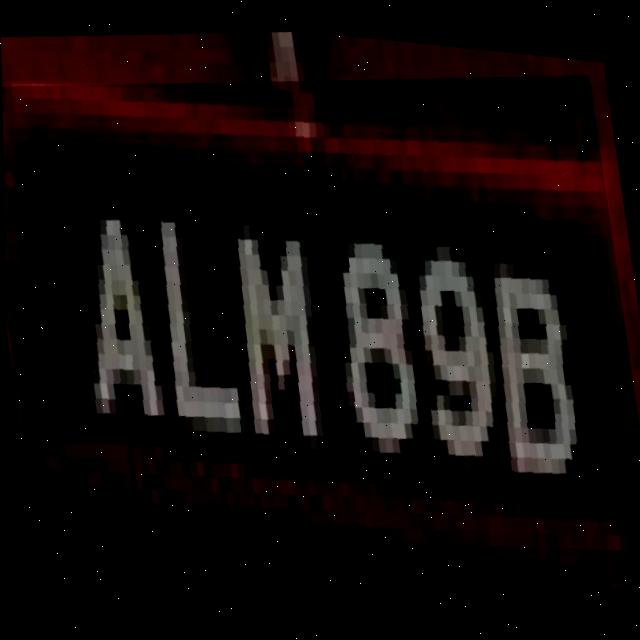LicensePlate: (0, 14, 640, 640)
